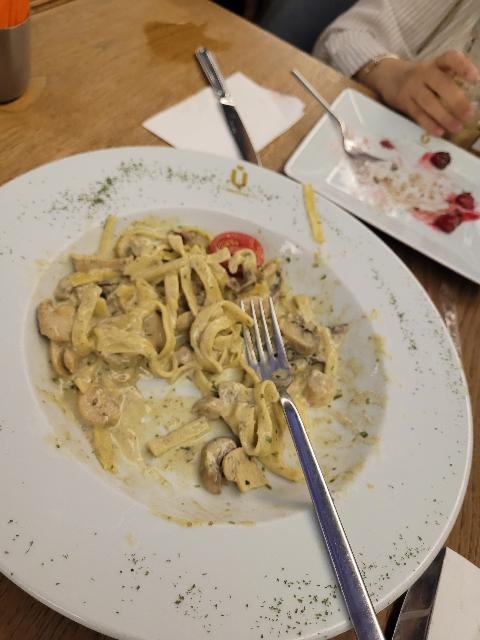Organik: (21, 203, 374, 553)
